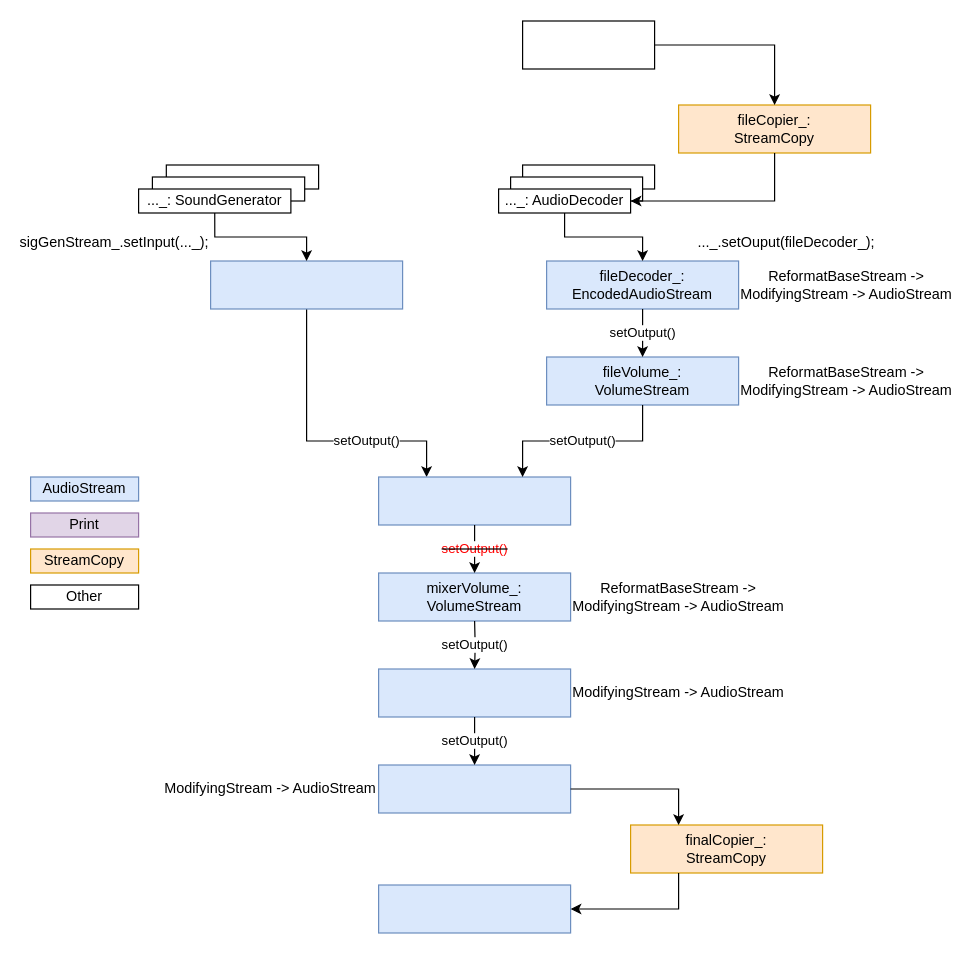
This 976x954 diagram has some shape labels left out. Here are the shapes that lost their labels. From the top down, the centre of each, then its label:
the point at 588,44: audioFile_: File
the point at 306,284: sigGenStream_: GeneratedSoundStream
the point at 474,500: mixer_: InputMixer
the point at 474,692: volumeMeter_: VolumeMeter
the point at 474,788: meas_: MeasuringStream (optional)
the point at 474,908: i2s_: I2SStream
